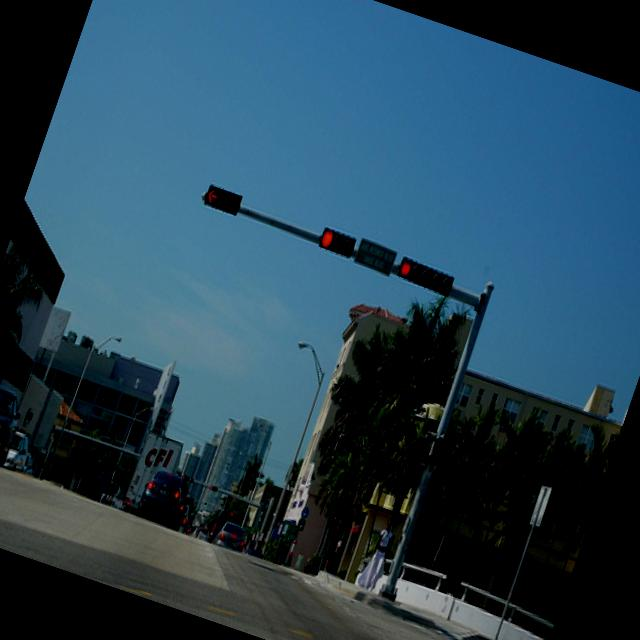Vehicle: (120, 429, 186, 522), (136, 468, 190, 527), (0, 373, 29, 469), (210, 516, 250, 553), (2, 431, 34, 474), (20, 452, 38, 475), (180, 504, 192, 524), (198, 528, 208, 540)
